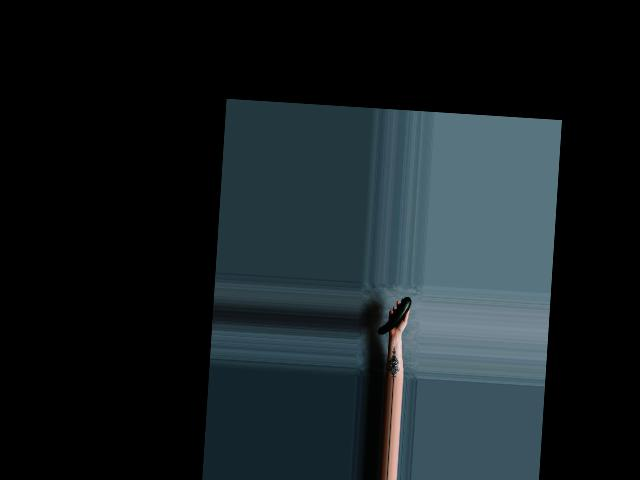cucumber: (377, 294, 411, 335)
